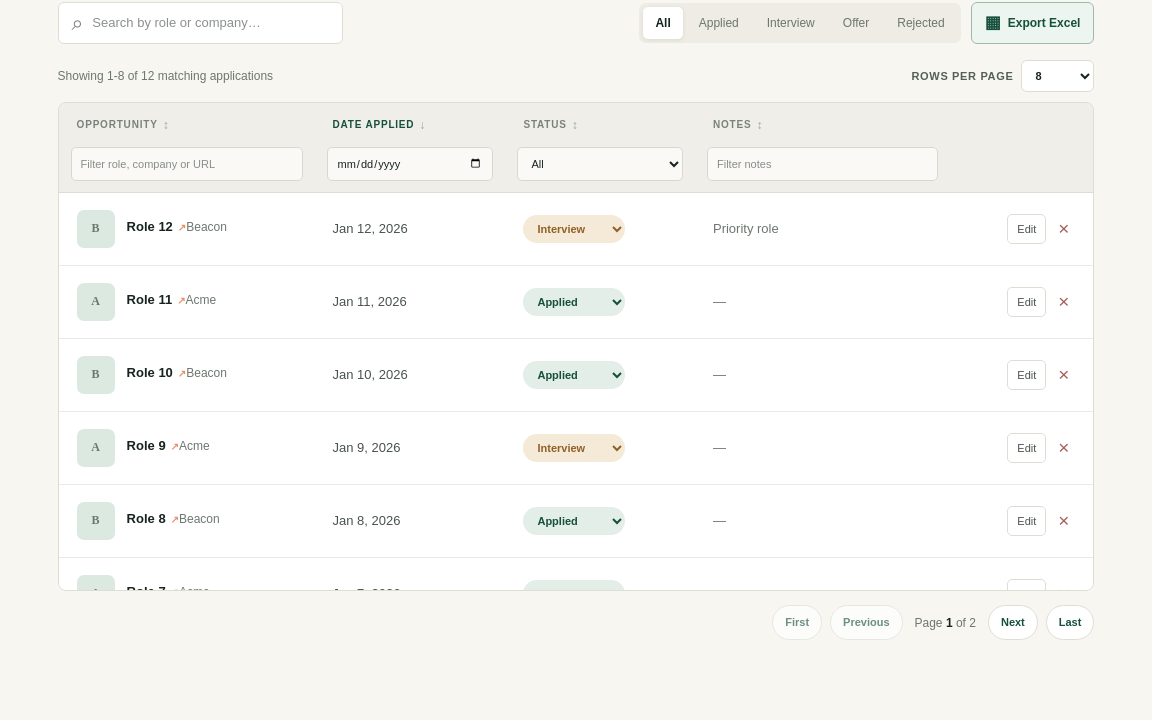
Scenario: OpportunitiesTable behavior › paginates results and resets to the first page when searching
(page scrolled)
Expected: the link with aria-label "open role 12" is shown, [127,217,186,240]
Click the button "Next". click: (1013, 623)
box: [988,605,1038,640]
(page scrolled)
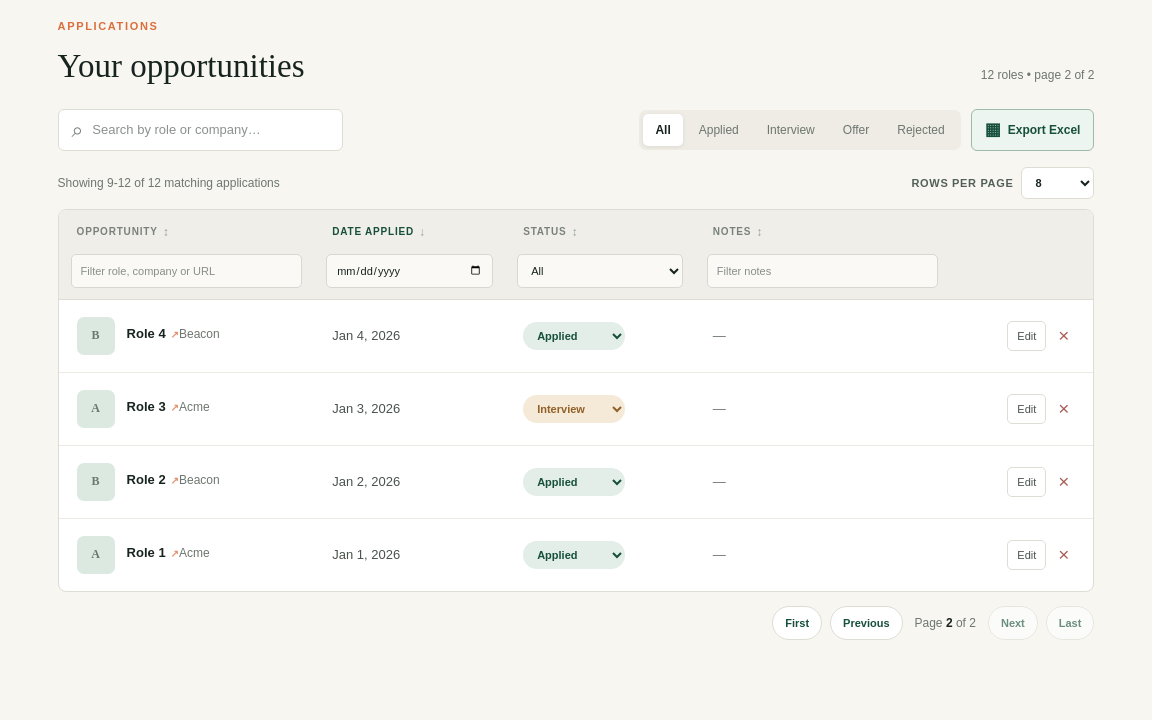
Result: the text "12 roles • page 2 of 2" is shown at [981,66,1094,84]
Result: the link with aria-label "open role 1 at" is shown at [127,543,179,566]
Type "Role 12" into the field named "Search applications". click: (210, 130)
box: [92,120,329,140]
(page scrolled)
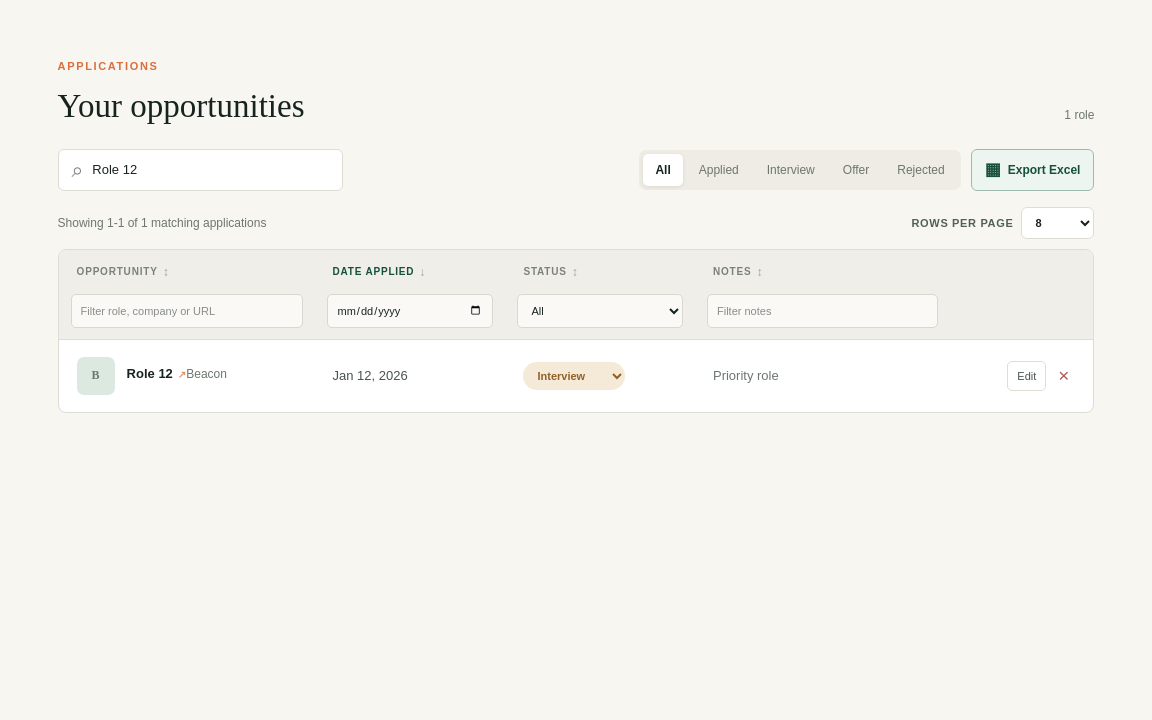
Result: the link with aria-label "open role 12" is shown at [127,364,186,388]
Result: the navigation bar "Applications pagination" is gone
Result: the text "Showing 1-1 of 1 matching applications" is shown at [58,214,266,232]
